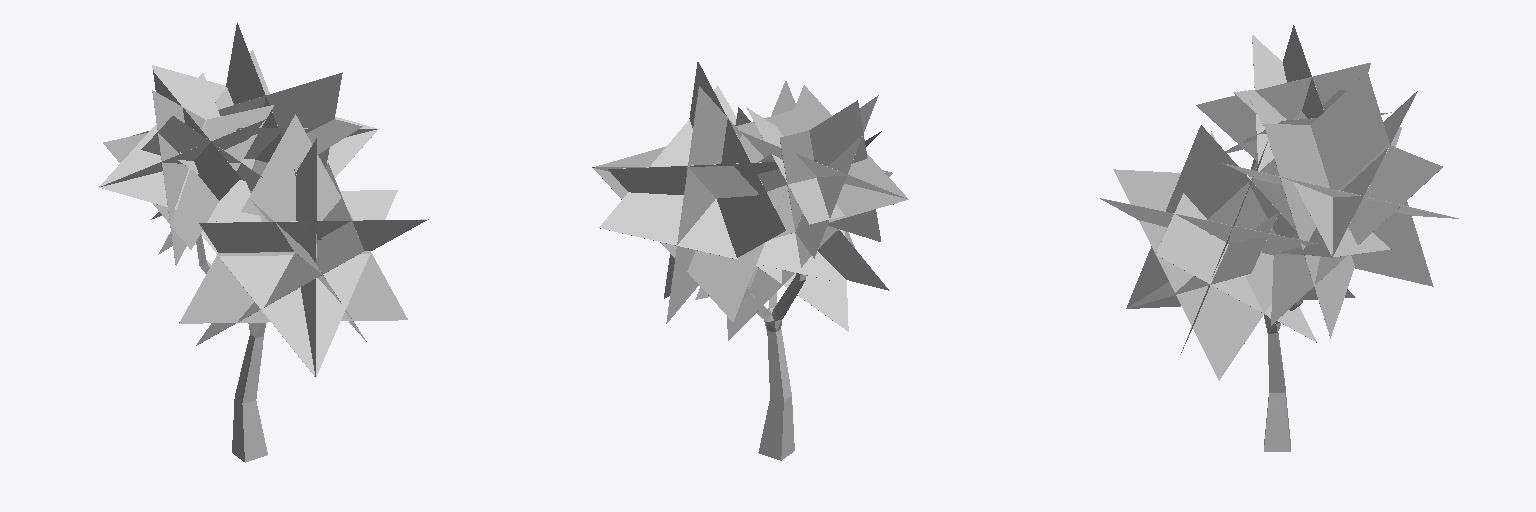
File: KohmTreeSmall.obj
3 renders of one model, left to right at view 1: azimuth 30°, elevation 25°; view 2: azimuth 150°, elevation 25°; view 3: azimuth 270°, elevation 25°, orthographic.
Visible parts, largest first — view 1: Plane.006_Circle.007; view 2: Plane.006_Circle.007; view 3: Plane.006_Circle.007.
Part boxes in pixels (x1,y1,x2,y2): Plane.006_Circle.007: (99, 22, 428, 462); Plane.006_Circle.007: (592, 62, 908, 460); Plane.006_Circle.007: (1100, 25, 1458, 451).
Bounding box in the file's own units: 19.69 × 24.75 × 20.75.